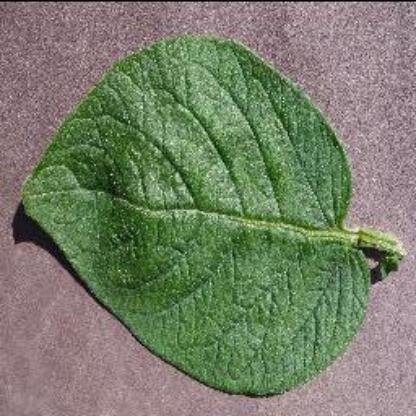Healthy-plant: (18, 28, 400, 400)
